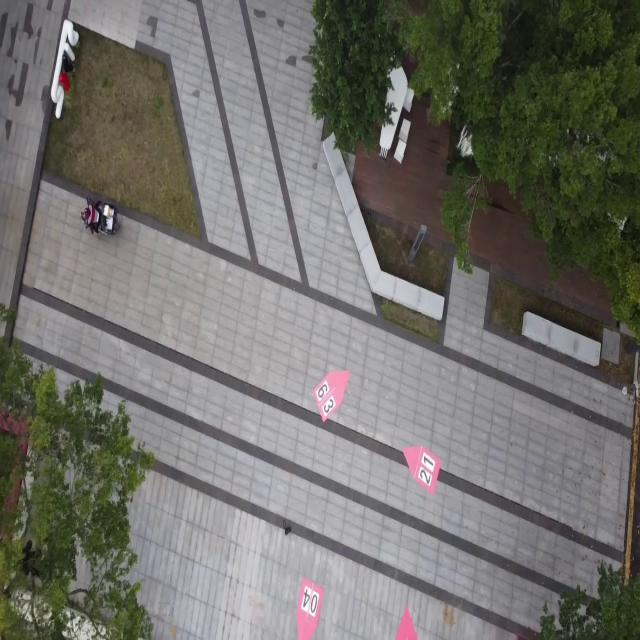-sign-: (283, 578, 339, 640), (312, 368, 350, 424), (402, 444, 442, 495)
